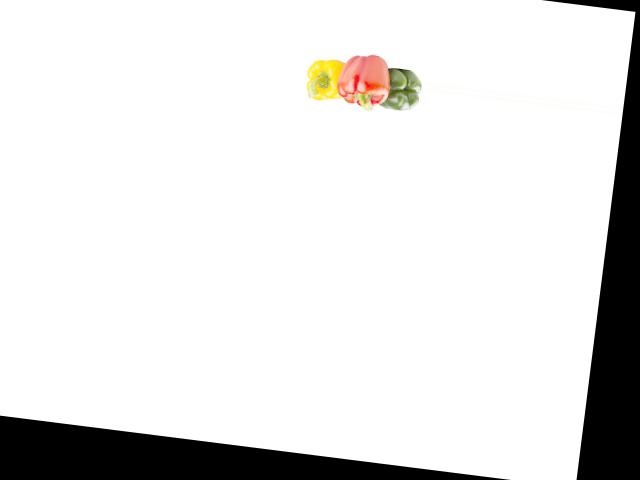bell_pepper: (300, 48, 350, 107)
